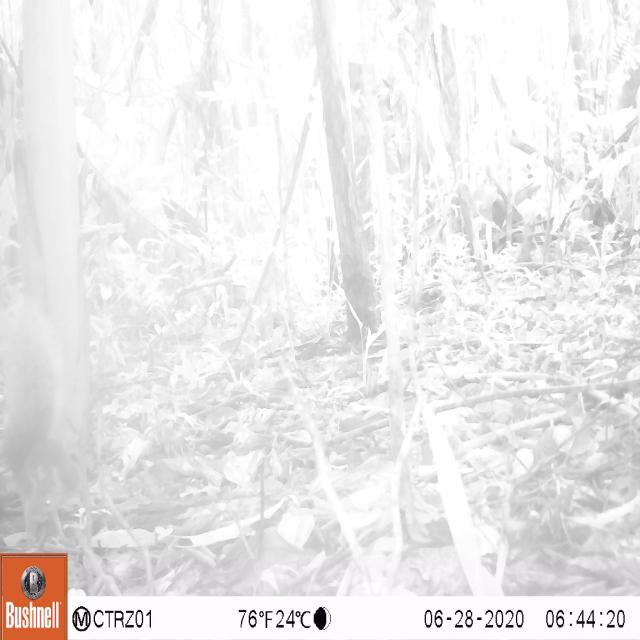Squirrel: (0, 297, 111, 546)
